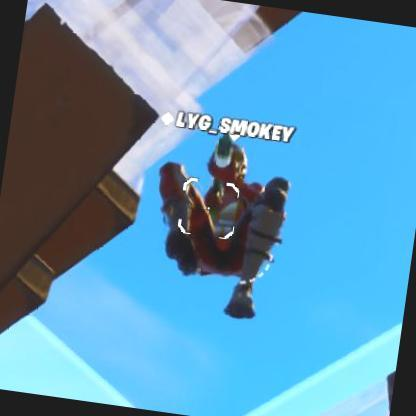person: (158, 129, 288, 295)
